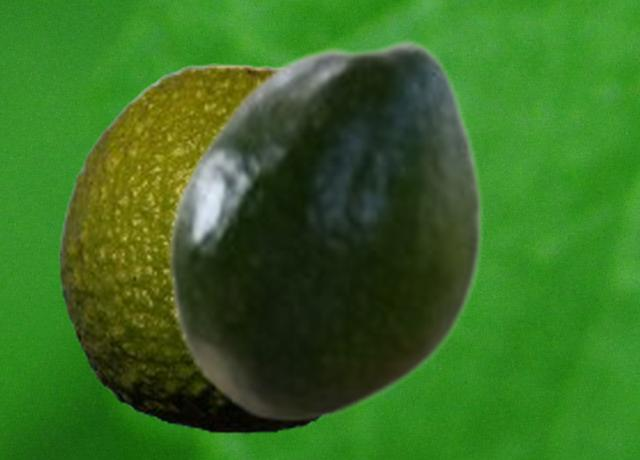avocado: (165, 38, 483, 422), (58, 63, 330, 433)
